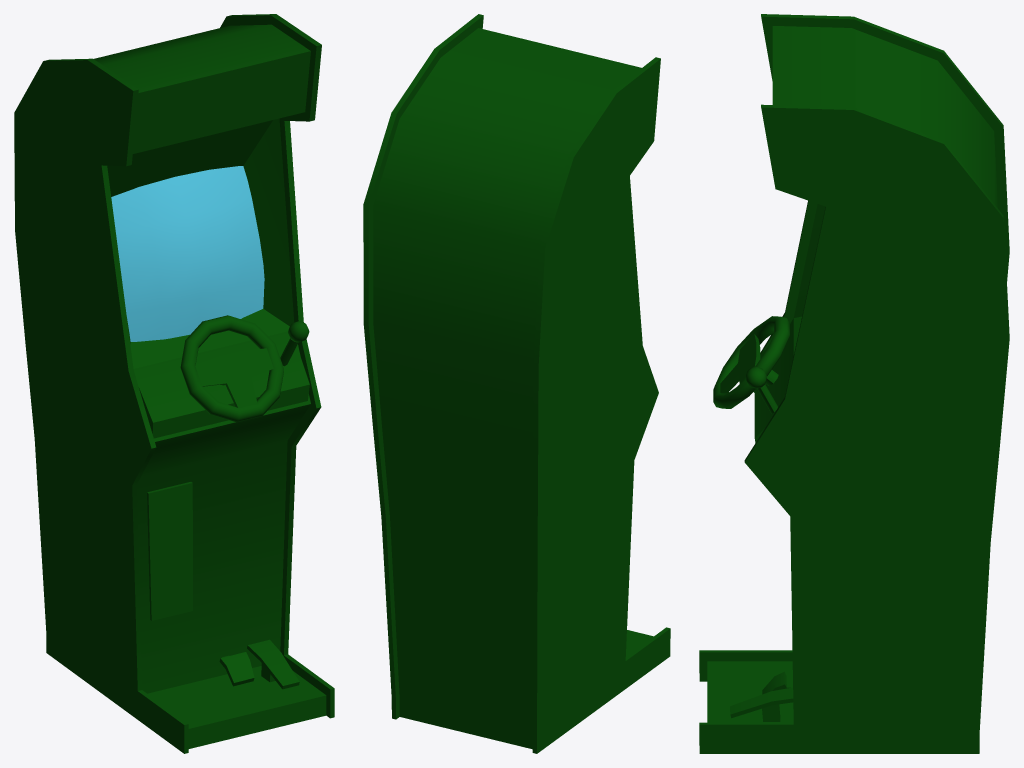
File: arcade_rz.fbx
The picture shows the model from 3 angles, left to right: view 1: azimuth 30°, elevation 25°; view 2: azimuth 150°, elevation 25°; view 3: azimuth 270°, elevation 25°; orthographic projection. The views are drawn at different scales.
Parts seen in each view (by area): view 1: Arcade_RZ, Screen_Plane; view 2: Arcade_RZ; view 3: Arcade_RZ.
Part boxes in pixels (<box>): Arcade_RZ: <box>14,14,334,753</box>; Screen_Plane: <box>111,166,264,341</box>; Arcade_RZ: <box>363,14,670,753</box>; Arcade_RZ: <box>699,14,1009,753</box>.
Size of the model in its own units: 0.7108 by 2.32 by 0.9973.
